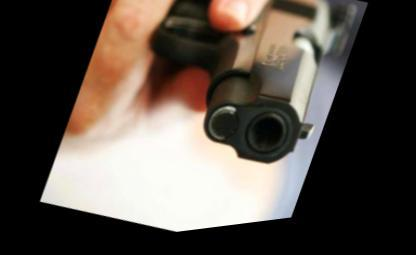pistol: (110, 0, 366, 202)
